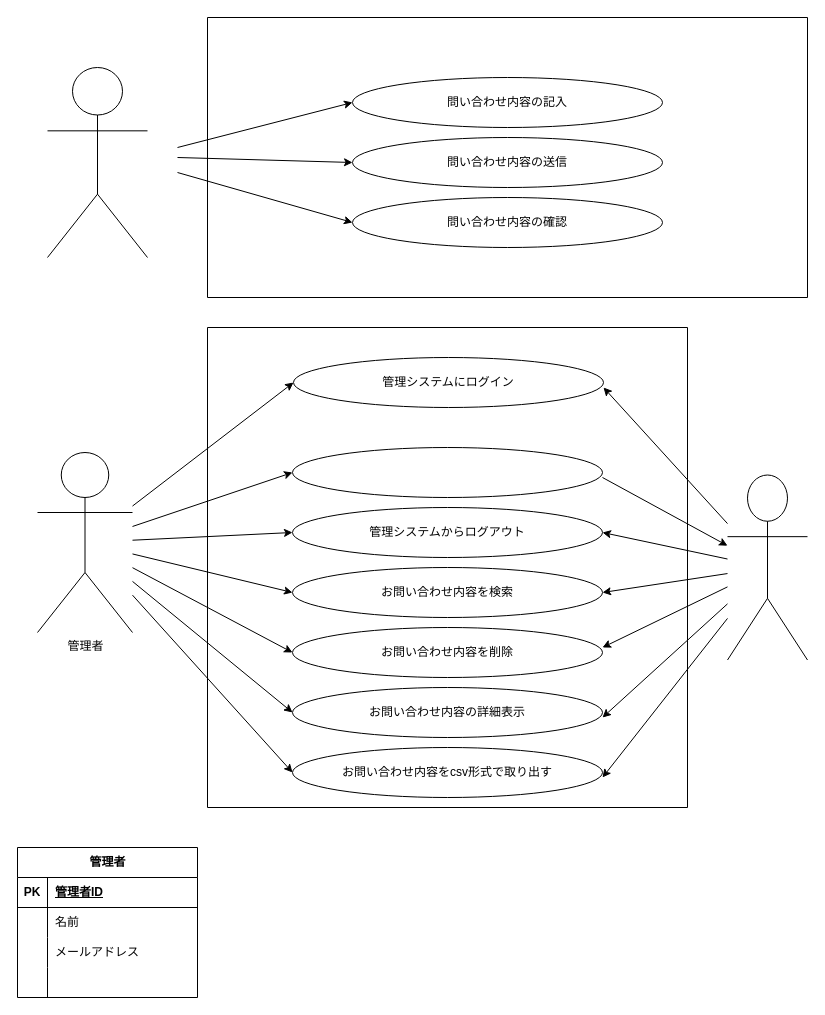
This 825x1015 diagram has some shape labels left out. Here are the shapes that lost their labels. From the top down, the box of each, then its label:
(46, 66, 148, 258): 利用者
(206, 16, 808, 298): 問い合わせ送信システム
(292, 446, 602, 498): 新規ユーザーの作成・登録
(206, 326, 688, 808): 問い合わせ管理システム
(726, 474, 808, 660): 新規管理者
